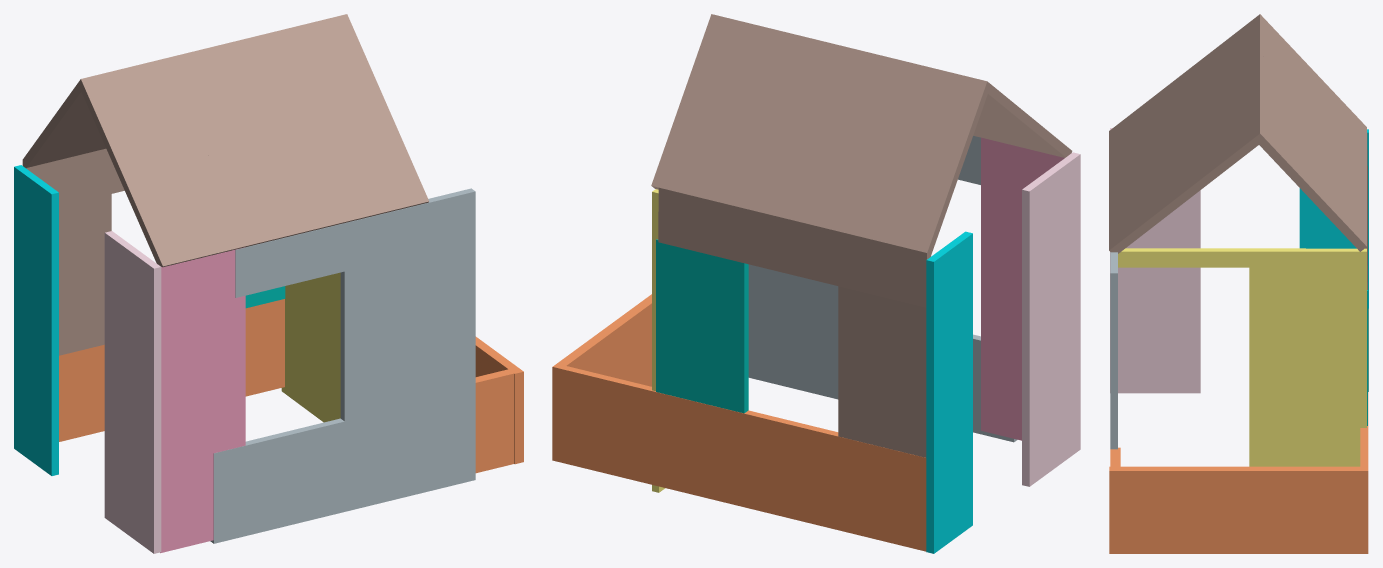
Rendered from boxhouse7.glb.
The picture shows the model from 3 angles, left to right: view 1: azimuth 30°, elevation 25°; view 2: azimuth 150°, elevation 25°; view 3: azimuth 270°, elevation 25°; orthographic projection. The views are drawn at different scales.
Visible parts, largest first — view 1: group955979634, group862240624, group269211863, group2108594817, group1015828026, group812064743, group2131019446; view 2: group955979634, group1015828026, group2108594817, group812064743, group2007698308, group269211863, group862240624, group2131019446; view 3: group955979634, group2131019446, group1015828026, group2108594817, group812064743, group862240624.
Boxes of the visible parts, x1,y1,x2,y2 form: group955979634: [22, 14, 429, 355]; group862240624: [210, 188, 475, 543]; group269211863: [160, 247, 245, 553]; group2108594817: [104, 231, 161, 553]; group1015828026: [59, 299, 523, 473]; group812064743: [14, 165, 58, 475]; group2131019446: [281, 272, 340, 422]; group955979634: [651, 14, 1072, 457]; group1015828026: [552, 294, 926, 551]; group2108594817: [1022, 152, 1080, 486]; group812064743: [926, 231, 972, 553]; group2007698308: [656, 239, 748, 413]; group269211863: [981, 137, 1064, 440]; group862240624: [748, 136, 1017, 442]; group2131019446: [652, 189, 665, 492]; group955979634: [1109, 14, 1367, 289]; group2131019446: [1118, 248, 1366, 466]; group1015828026: [1109, 309, 1368, 553]; group2108594817: [1110, 128, 1200, 393]; group812064743: [1299, 129, 1368, 391]; group862240624: [1110, 252, 1117, 449].
Size of the model in its own units: 4.06 by 4.39 by 2.69.
